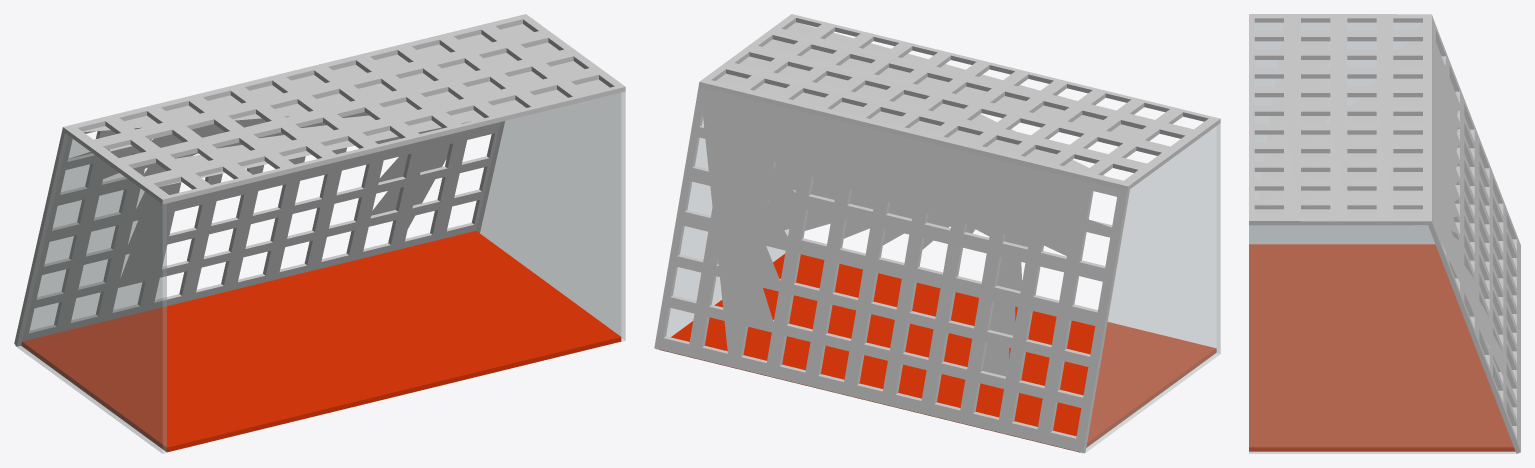
The model's file is ShootyGoalRed.fbx.
3 views of the same model, side by side, from view 1: azimuth 30°, elevation 25°; view 2: azimuth 150°, elevation 25°; view 3: azimuth 270°, elevation 25° (orthographic). The views are drawn at different scales.
Parts seen in each view (by area): view 1: polySurface1; view 2: polySurface1; view 3: polySurface1.
Part boxes in pixels (left/top/right/bottom): polySurface1: left=14, top=14, right=625, bottom=453; polySurface1: left=654, top=14, right=1220, bottom=453; polySurface1: left=1249, top=14, right=1520, bottom=453.
Bounding box in the file's own units: 6.22e-05 × 3.26e-05 × 3.45e-05.
